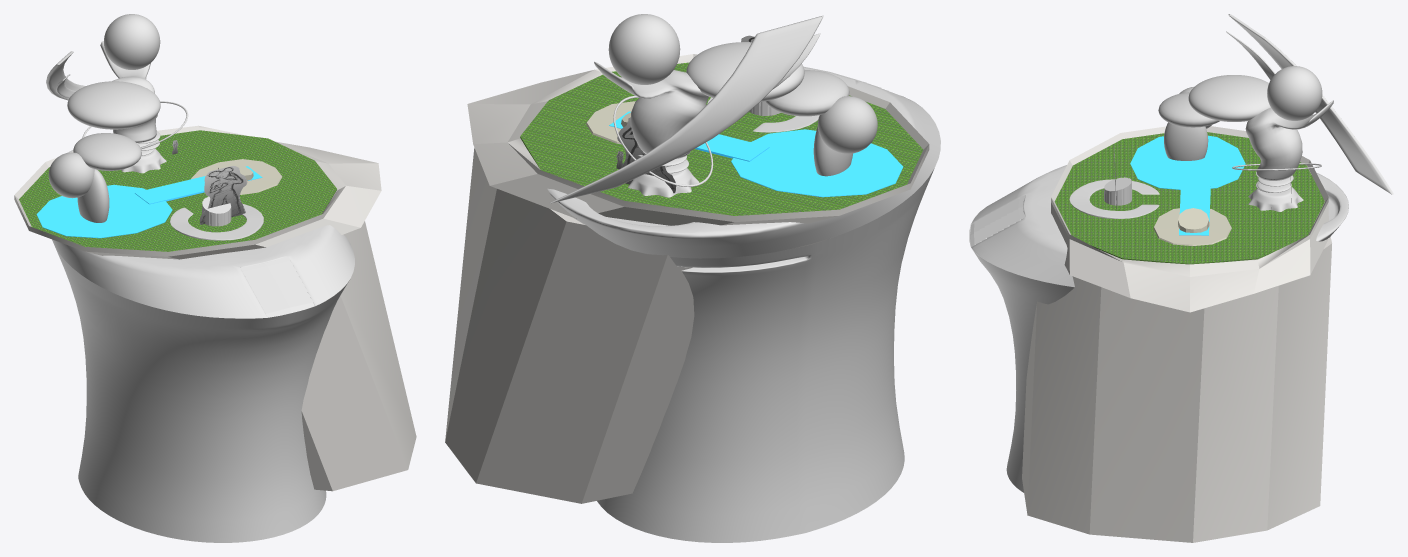
File: part_1_platform(1) 1.fbx
3 renders of one model, left to right at view 1: azimuth 30°, elevation 25°; view 2: azimuth 150°, elevation 25°; view 3: azimuth 270°, elevation 25°, orthographic. The views are drawn at different scales.
Parts seen in each view (by area): view 1: Cylinder, PolyShape, Cylinder__2_, Cylinder.001, Cylinder__1_, Cylinder__4_, Sphere, Cylinder.003, Sphere.001, Sphere__4_, Sphere__3_, Tst (+8 smaller); view 2: Cylinder, PolyShape, Cylinder__2_, Cylinder__1_, Cylinder.001, Plane, Cylinder__4_, Cylinder.008, Sphere.001, Sphere, Sphere__3_, Sphere__4_ (+6 smaller); view 3: PolyShape, Cylinder__2_, Cylinder__1_, Cylinder.001, Cylinder, Cylinder__4_, Cylinder.008, Sphere, Plane, Sphere.001, Cylinder__3_, Cylinder.002 (+7 smaller).
Boxes of the visible parts, bbox=[...] form: Cylinder: bbox=[52, 240, 349, 542]; PolyShape: bbox=[233, 221, 416, 491]; Cylinder__2_: bbox=[19, 130, 336, 251]; Cylinder.001: bbox=[52, 150, 354, 318]; Cylinder__1_: bbox=[14, 125, 381, 259]; Cylinder__4_: bbox=[36, 184, 172, 238]; Sphere: bbox=[67, 81, 160, 129]; Cylinder.003: bbox=[240, 256, 314, 317]; Sphere.001: bbox=[104, 14, 160, 69]; Sphere__4_: bbox=[73, 133, 141, 170]; Sphere__3_: bbox=[48, 152, 94, 198]; Tst: bbox=[199, 166, 247, 224]; Cylinder: bbox=[597, 96, 934, 542]; PolyShape: bbox=[445, 148, 827, 503]; Cylinder__2_: bbox=[520, 62, 923, 215]; Cylinder__1_: bbox=[467, 54, 929, 225]; Cylinder.001: bbox=[547, 67, 940, 258]; Plane: bbox=[549, 16, 823, 203]; Cylinder__4_: bbox=[731, 129, 903, 197]; Cylinder.008: bbox=[594, 61, 708, 158]; Sphere.001: bbox=[608, 14, 680, 84]; Sphere: bbox=[686, 42, 804, 102]; Sphere__3_: bbox=[817, 96, 877, 153]; Sphere__4_: bbox=[765, 70, 849, 116]; PolyShape: bbox=[1022, 237, 1331, 542]; Cylinder__2_: bbox=[1054, 132, 1324, 264]; Cylinder__1_: bbox=[1051, 126, 1328, 312]; Cylinder.001: bbox=[970, 165, 1348, 287]; Cylinder: bbox=[969, 209, 1074, 492]; Cylinder__4_: bbox=[1130, 135, 1245, 189]; Cylinder.008: bbox=[1245, 100, 1333, 180]; Sphere: bbox=[1188, 75, 1270, 121]; Plane: bbox=[1228, 14, 1393, 194]; Sphere.001: bbox=[1267, 66, 1322, 120]; Cylinder__3_: bbox=[1153, 208, 1231, 246]; Cylinder.002: bbox=[1069, 179, 1159, 218].
Bounding box in the file's own units: 15584 × 17438 × 16499.
